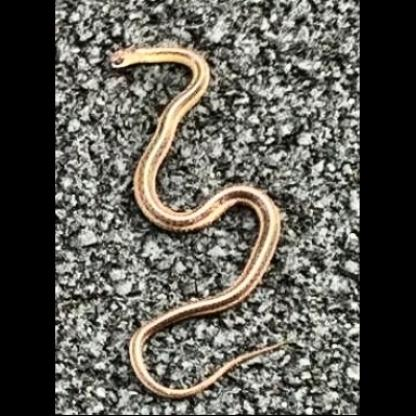Snake: (107, 43, 287, 405)
